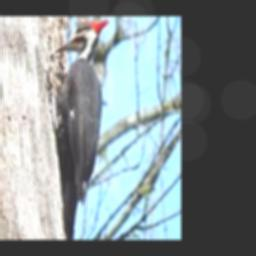Woodpecker: (52, 19, 109, 204)
